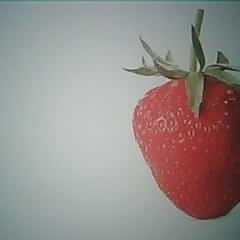straw-ripe: (132, 74, 240, 220)
